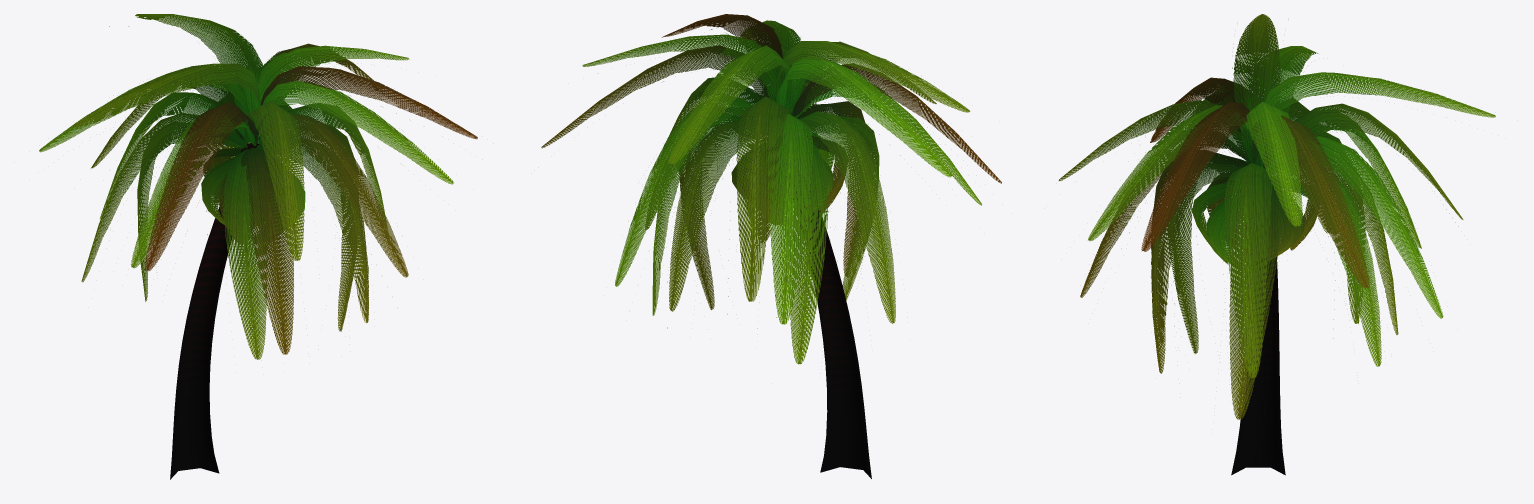
Rendered from palm_c.glb.
3 renders of one model, left to right at view 1: azimuth 30°, elevation 25°; view 2: azimuth 150°, elevation 25°; view 3: azimuth 270°, elevation 25°, orthographic. The views are drawn at different scales.
Parts seen in each view (by area): view 1: Palm_C; view 2: Palm_C; view 3: Palm_C.
Boxes of the visible parts, x1,y1,x2,y2 form: Palm_C: (39,14,477,479); Palm_C: (541,14,1001,478); Palm_C: (1058,14,1495,475).
Bounding box in the file's own units: 8.86 × 8.6 × 8.55.
1 material, 1 textured.
